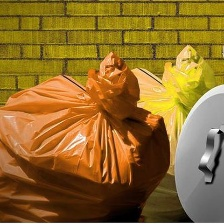plastic_bag: (0, 48, 172, 223), (111, 41, 219, 224)
